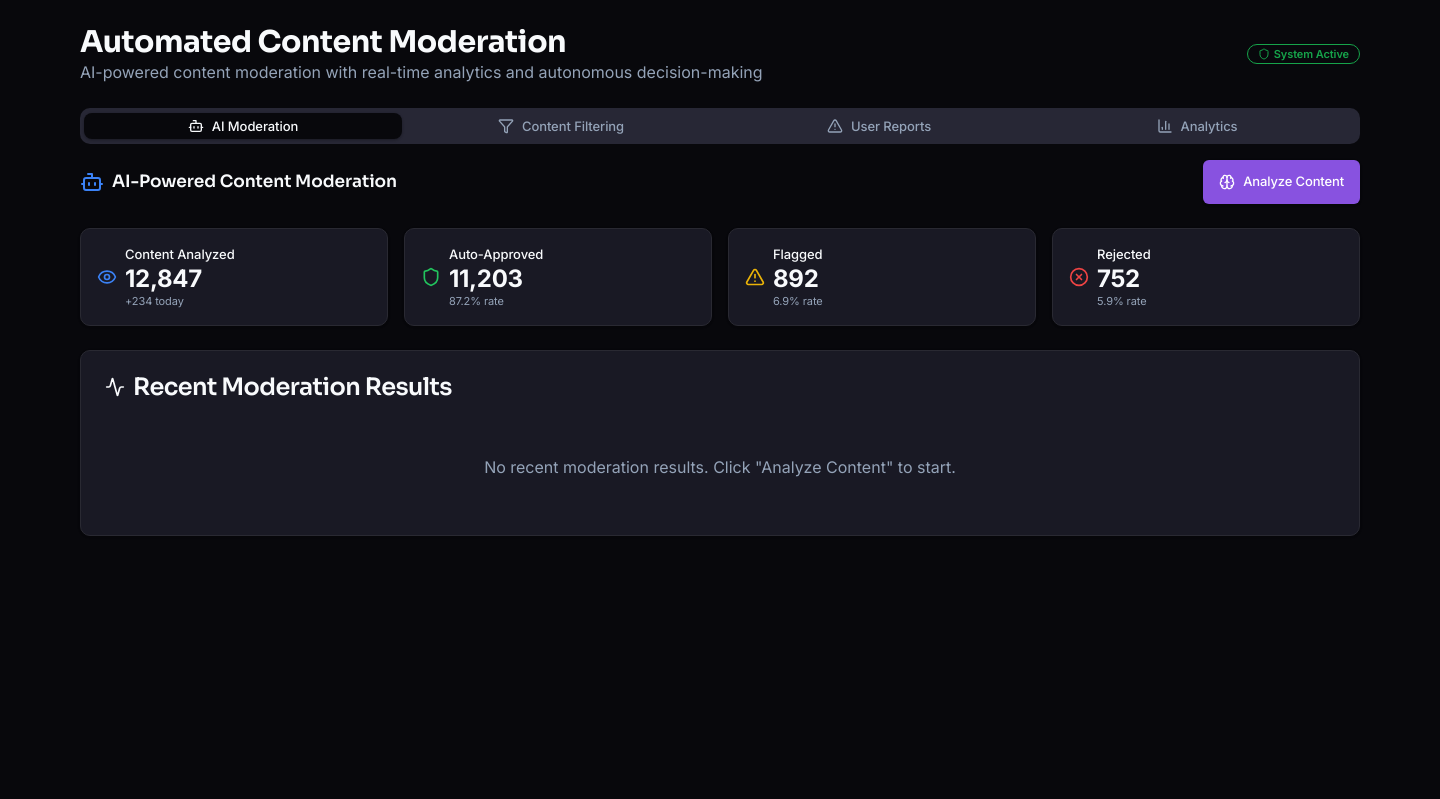
Test case: AutomatedContentModerationDashboard › US-170: Autonomous Moderation Analytics › should display moderation analytics panel
Click the tab "Analytics".
click(1197, 126)  # box 1038,113 -> 1356,139
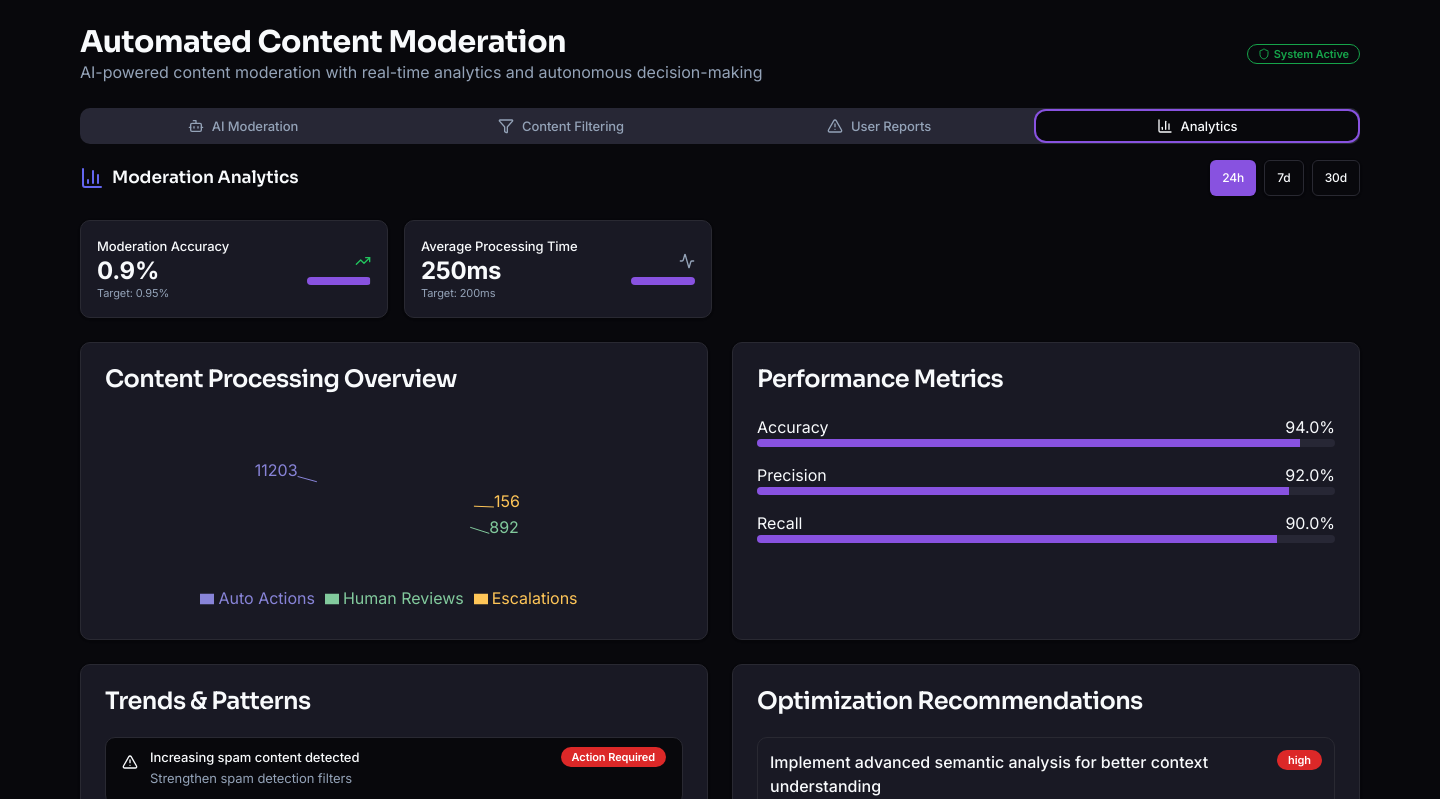
Expected: the heading "Moderation Analytics" is shown, 112,165 -> 299,191
